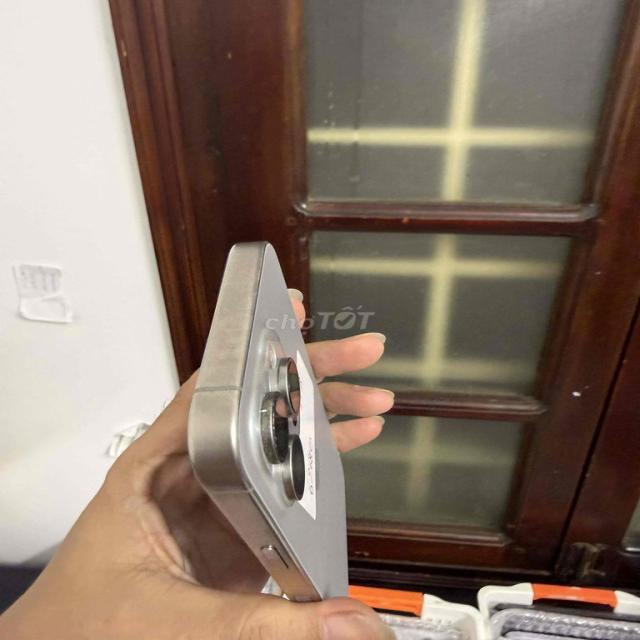gen_15: (175, 225, 357, 612)
scratch: (224, 336, 240, 356)
